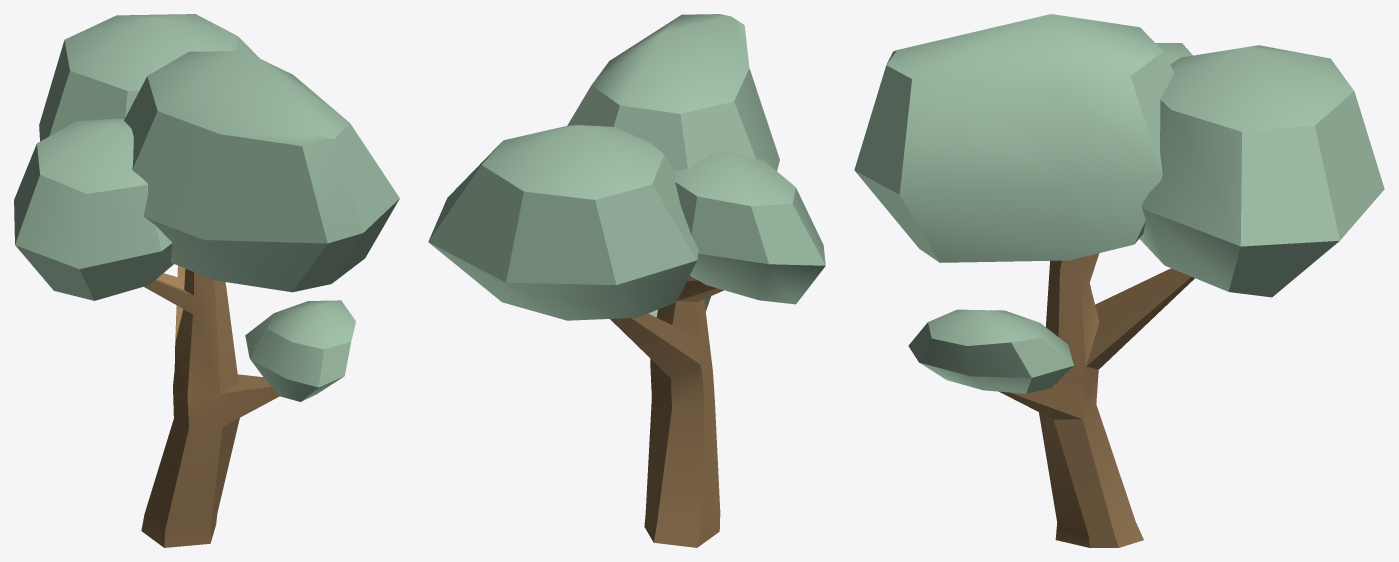
File: Tree.fbx
3 views of the same model, side by side, from view 1: azimuth 30°, elevation 25°; view 2: azimuth 150°, elevation 25°; view 3: azimuth 270°, elevation 25° (orthographic). The views are drawn at different scales.
Visible parts, largest first — view 1: Tree_New; view 2: Tree_New; view 3: Tree_New.
Part boxes in pixels (<box>): Tree_New: <box>14,14,399,547</box>; Tree_New: <box>428,14,825,547</box>; Tree_New: <box>854,14,1384,547</box>.
Size of the model in its own units: 157 by 218 by 192.
